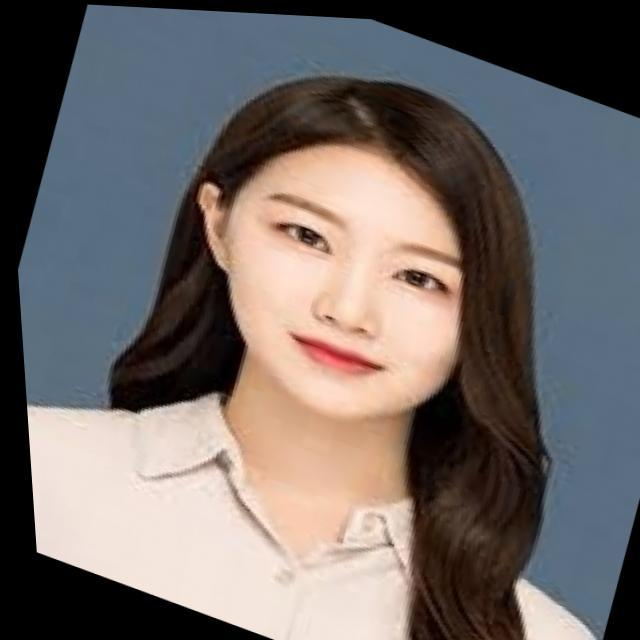Nonhelmet: (176, 49, 509, 433)
